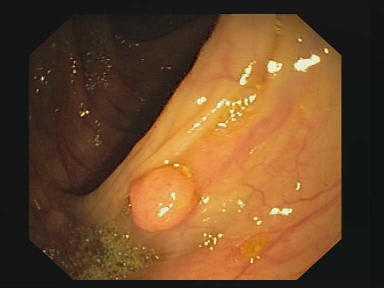polyp: (113, 149, 213, 232)
